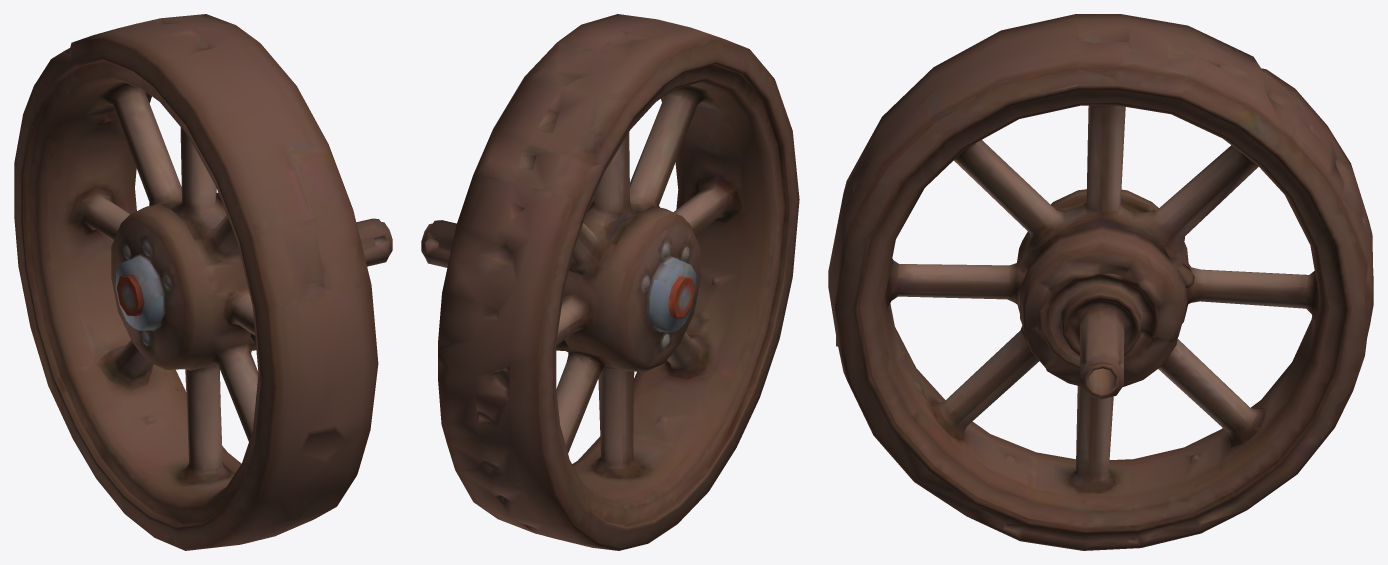
File: loose_flywheel.glb
3 renders of one model, left to right at view 1: azimuth 30°, elevation 25°; view 2: azimuth 150°, elevation 25°; view 3: azimuth 270°, elevation 25°, orthographic. The views are drawn at different scales.
Parts seen in each view (by area): view 1: base_model_path; view 2: base_model_path; view 3: base_model_path.
Part boxes in pixels (x1,y1,x2,y2): base_model_path: (14,14,392,550); base_model_path: (421,14,799,550); base_model_path: (828,14,1373,550).
Size of the model in its own units: 0.5538 by 0.996 by 0.996.
Materials: 1 (1 with a texture image).
